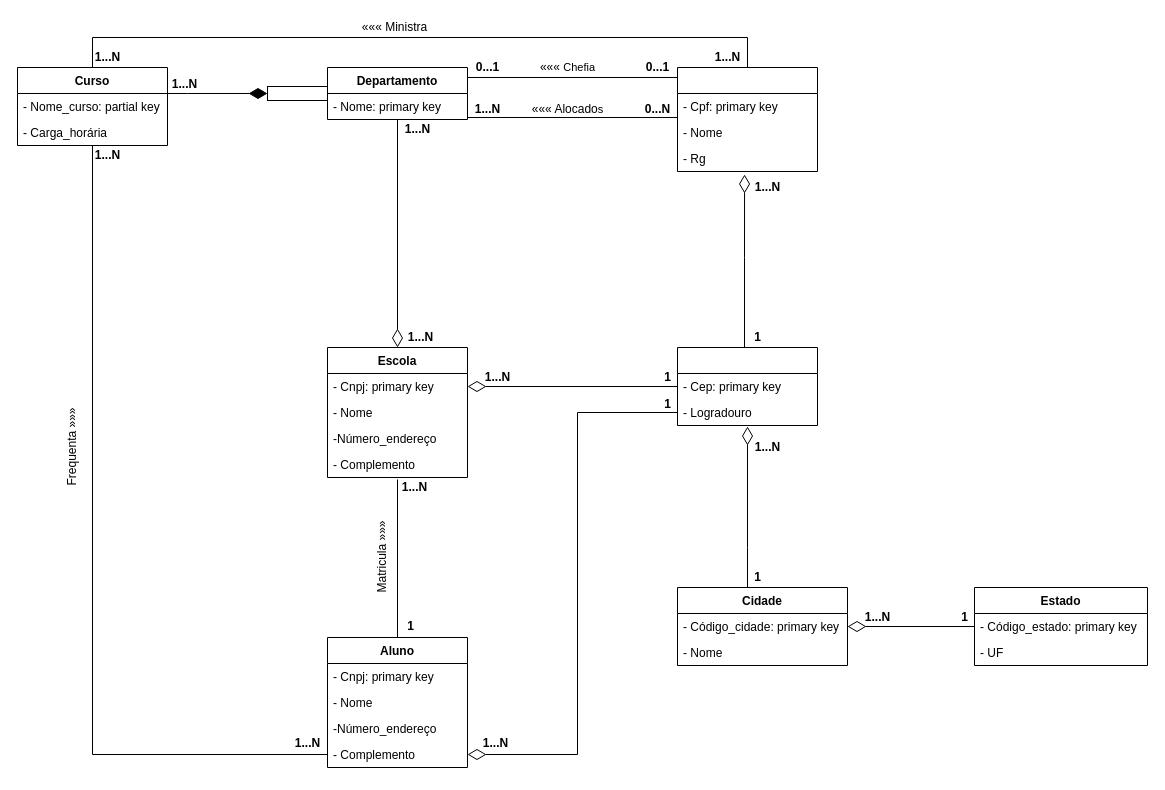
Some shapes in this 1165 by 790 pixel diagram are drawn without their labels. The box of each missing label's shape, as (x1, y1, x2, y2) in pixels:
Endereço: (676, 346, 818, 426)
Nome_curso: (266, 86, 328, 100)
Professor: (676, 66, 818, 172)
